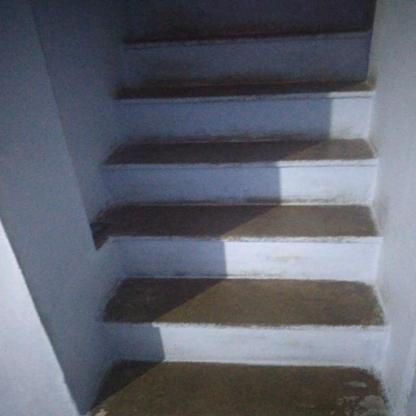stair: (75, 11, 398, 416)
